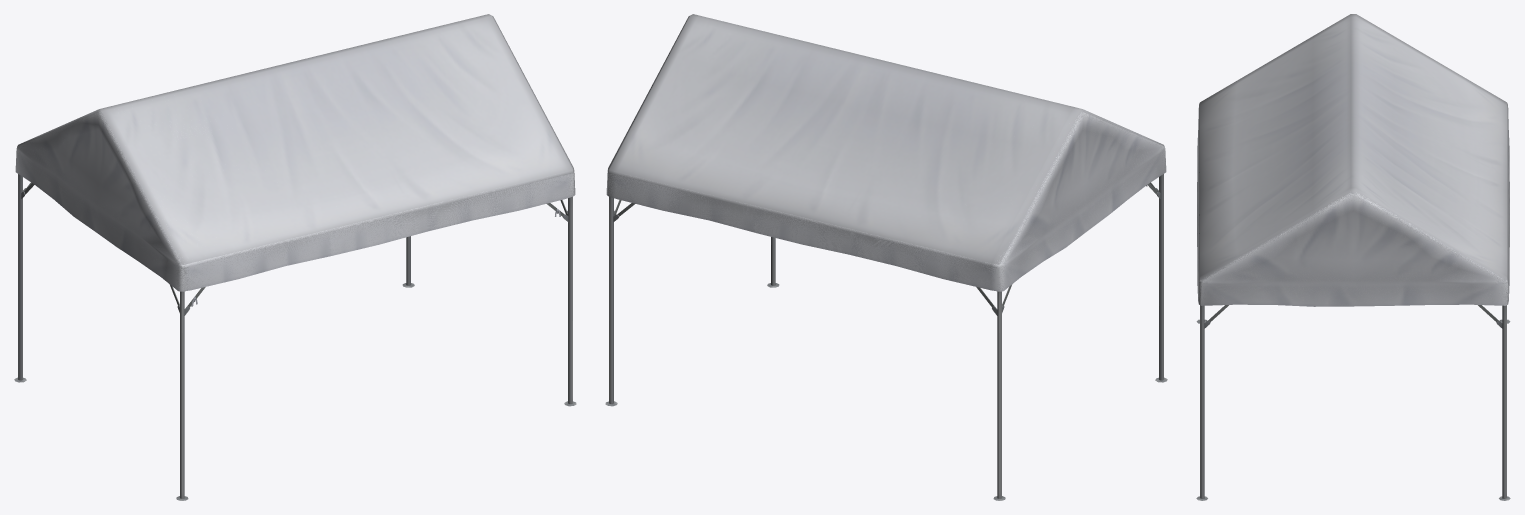
The model's file is jsf_Tent_02.fbx.
3 views of the same model, side by side, from view 1: azimuth 30°, elevation 25°; view 2: azimuth 150°, elevation 25°; view 3: azimuth 270°, elevation 25° (orthographic). The views are drawn at different scales.
Visible parts, largest first — view 1: jsf_Tent_02; view 2: jsf_Tent_02; view 3: jsf_Tent_02.
Part boxes in pixels (x1=…): jsf_Tent_02: x1=14, y1=14, x2=576, y2=500; jsf_Tent_02: x1=605, y1=14, x2=1167, y2=500; jsf_Tent_02: x1=1196, y1=14, x2=1510, y2=500.
Bounding box in the file's own units: 360 × 283 × 262.
